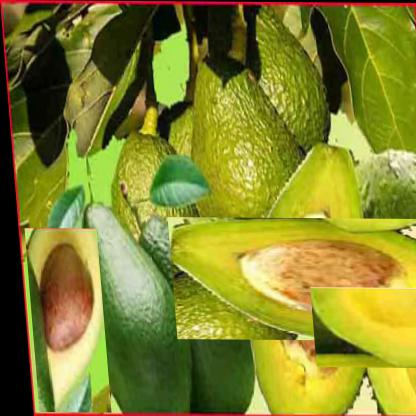avocado: (198, 180, 408, 378), (20, 227, 105, 413), (326, 263, 415, 393)
